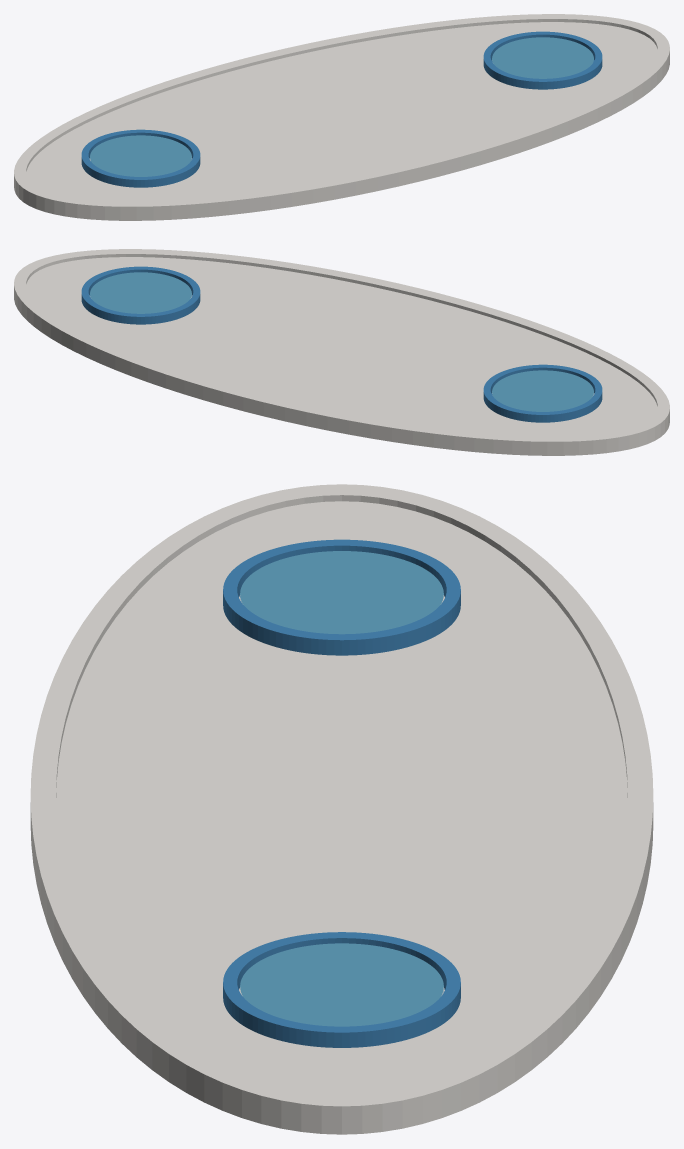
File: obelisco-ovalo.glb
3 renders of one model, top to bottom at view 1: azimuth 30°, elevation 25°; view 2: azimuth 150°, elevation 25°; view 3: azimuth 270°, elevation 25°, orthographic. The views are drawn at different scales.
Parts seen in each view (by area): view 1: isla, fuente-oeste-agua, fuente-este-agua, fuente-este, fuente-oeste; view 2: isla, fuente-oeste-agua, fuente-este-agua, fuente-este, fuente-oeste; view 3: isla, fuente-este-agua, fuente-oeste-agua, fuente-este, fuente-oeste.
Boxes of the visible parts, x1=… form: isla: x1=14, y1=14, x2=669, y2=220; fuente-oeste-agua: x1=90, y1=135, x2=191, y2=176; fuente-este-agua: x1=492, y1=37, x2=593, y2=78; fuente-este: x1=483, y1=31, x2=602, y2=89; fuente-oeste: x1=81, y1=129, x2=200, y2=187; isla: x1=14, y1=249, x2=669, y2=455; fuente-oeste-agua: x1=492, y1=370, x2=593, y2=411; fuente-este-agua: x1=90, y1=272, x2=191, y2=313; fuente-este: x1=81, y1=266, x2=200, y2=324; fuente-oeste: x1=483, y1=364, x2=602, y2=422; isla: x1=30, y1=484, x2=653, y2=1134; fuente-este-agua: x1=240, y1=943, x2=443, y2=1026; fuente-oeste-agua: x1=240, y1=551, x2=443, y2=634; fuente-este: x1=223, y1=932, x2=460, y2=1047; fuente-oeste: x1=223, y1=539, x2=460, y2=655.
Bounding box in the file's own units: 26 × 0.73 × 11.
